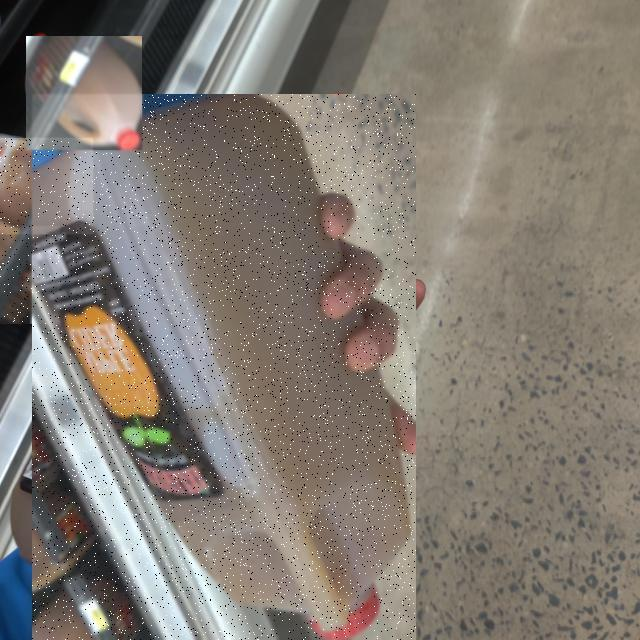Juice: (33, 94, 417, 640), (26, 36, 142, 150), (0, 139, 93, 235), (1, 226, 61, 324)
